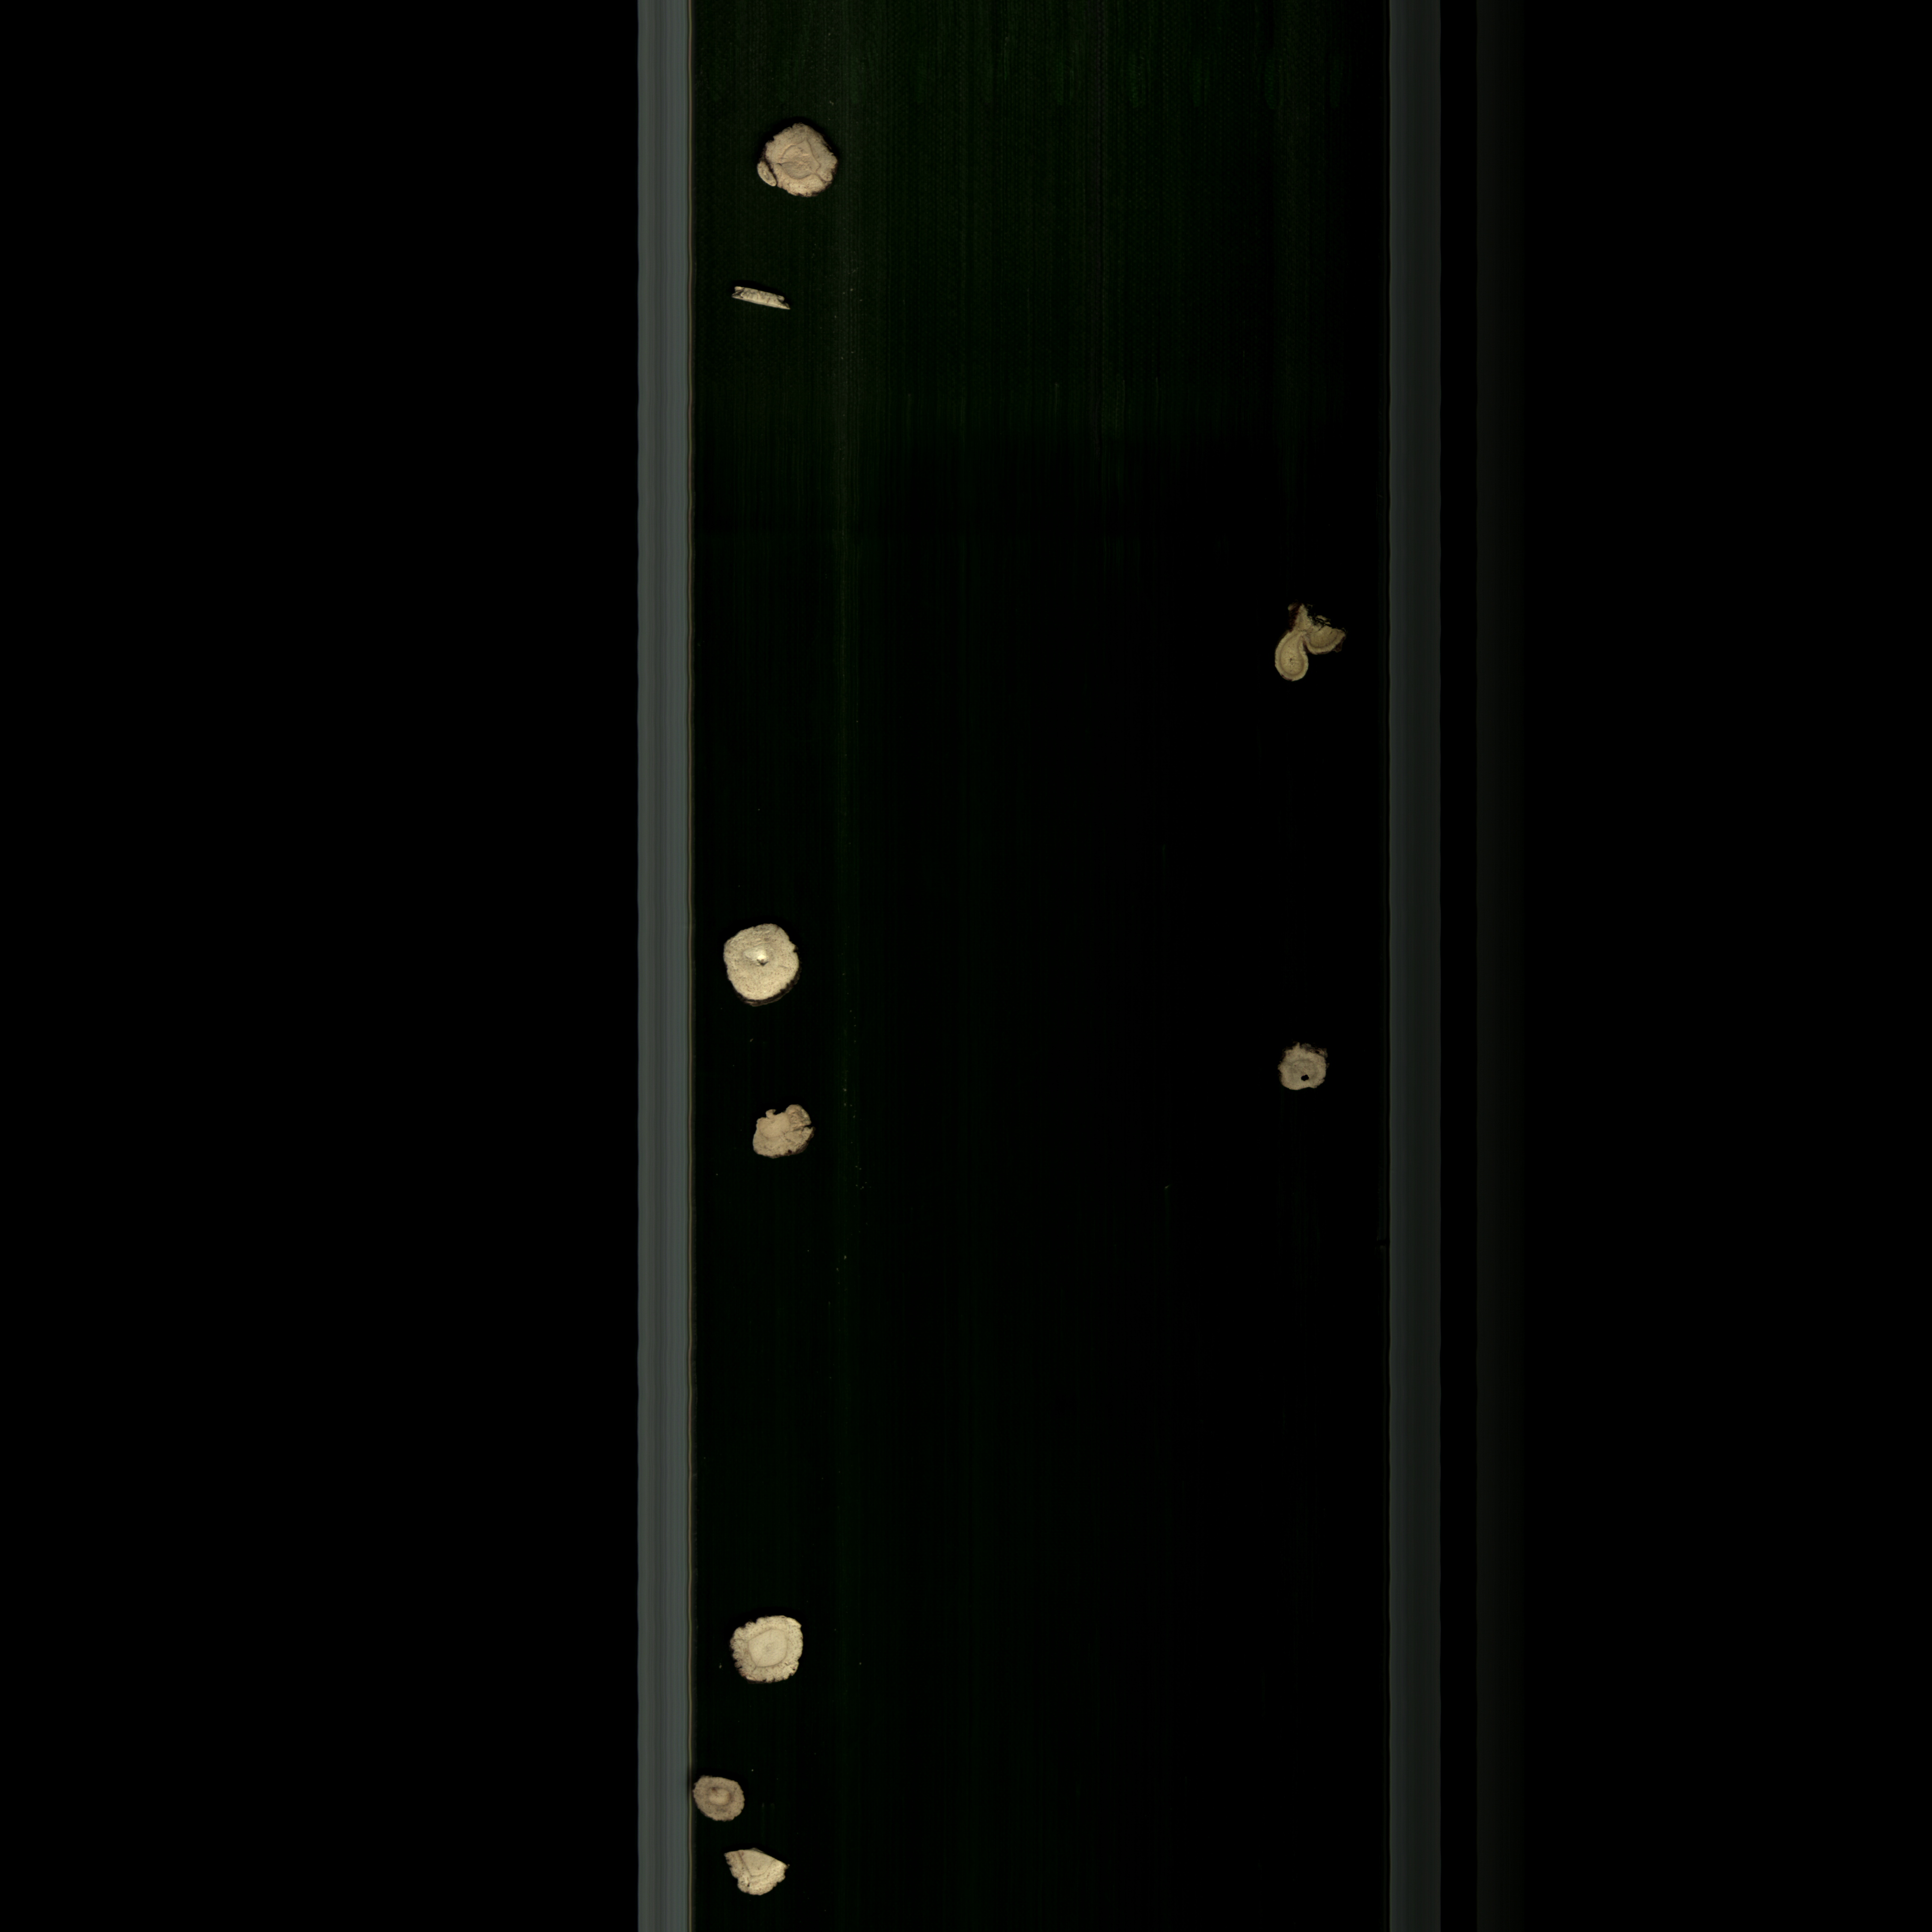debris: (717, 1838, 812, 1904)
distortion: (740, 113, 856, 209), (741, 1097, 832, 1171)
dreg: (722, 272, 800, 317)
hole: (717, 916, 814, 1014), (1263, 1033, 1341, 1102)
moldy: (1265, 591, 1348, 697), (685, 1767, 757, 1829)
